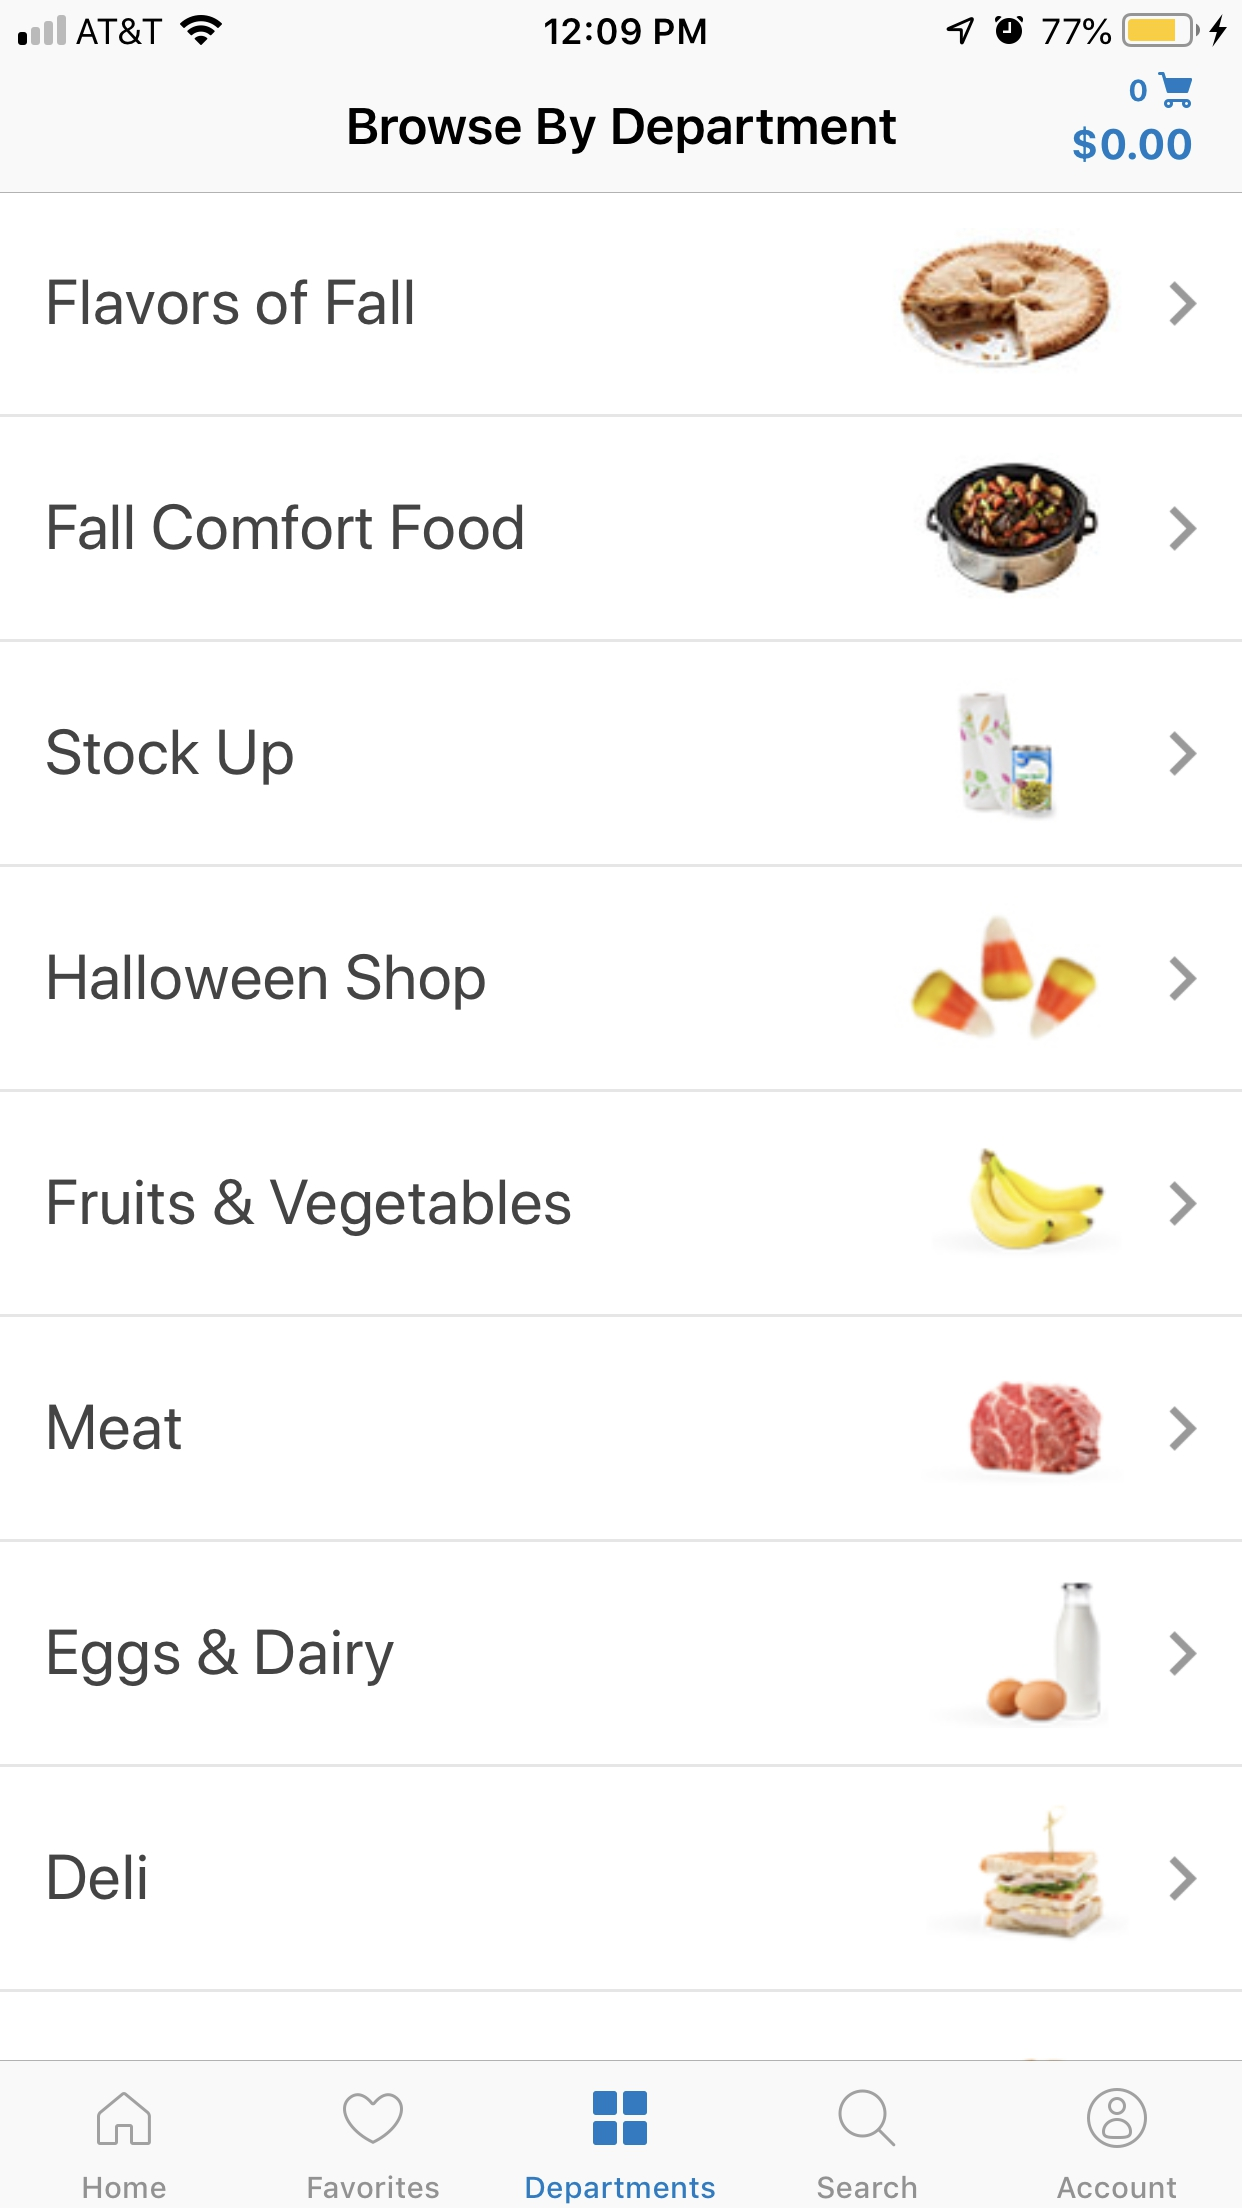Icon: (1086, 2087, 1148, 2149), (839, 2088, 898, 2147), (343, 2093, 405, 2144), (591, 2090, 648, 2146), (97, 2091, 152, 2146), (1157, 71, 1193, 111), (1169, 281, 1198, 328), (1169, 729, 1198, 776), (1169, 955, 1198, 1002), (1169, 1180, 1198, 1227), (1168, 1630, 1197, 1677), (1169, 507, 1198, 552), (1169, 1406, 1198, 1451), (1169, 1856, 1198, 1902)
Image: (899, 243, 1112, 370), (908, 914, 1098, 1040), (925, 463, 1099, 594), (978, 1805, 1104, 1941), (984, 1582, 1102, 1726), (969, 1146, 1106, 1253), (969, 1378, 1102, 1476), (958, 690, 1054, 820)
Text: (49, 1178, 572, 1237), (349, 108, 898, 156), (49, 952, 485, 1011), (49, 503, 525, 552), (49, 1629, 396, 1686), (49, 278, 414, 326), (49, 728, 296, 786), (39, 1400, 171, 1448), (39, 1849, 144, 1900), (526, 2178, 716, 2205), (1074, 126, 1192, 162), (308, 2175, 440, 2199), (1057, 2176, 1177, 2199), (817, 2175, 917, 2200), (83, 2176, 167, 2199), (1130, 79, 1148, 103)
UpperTaskBar: (2, 2, 1242, 49)
